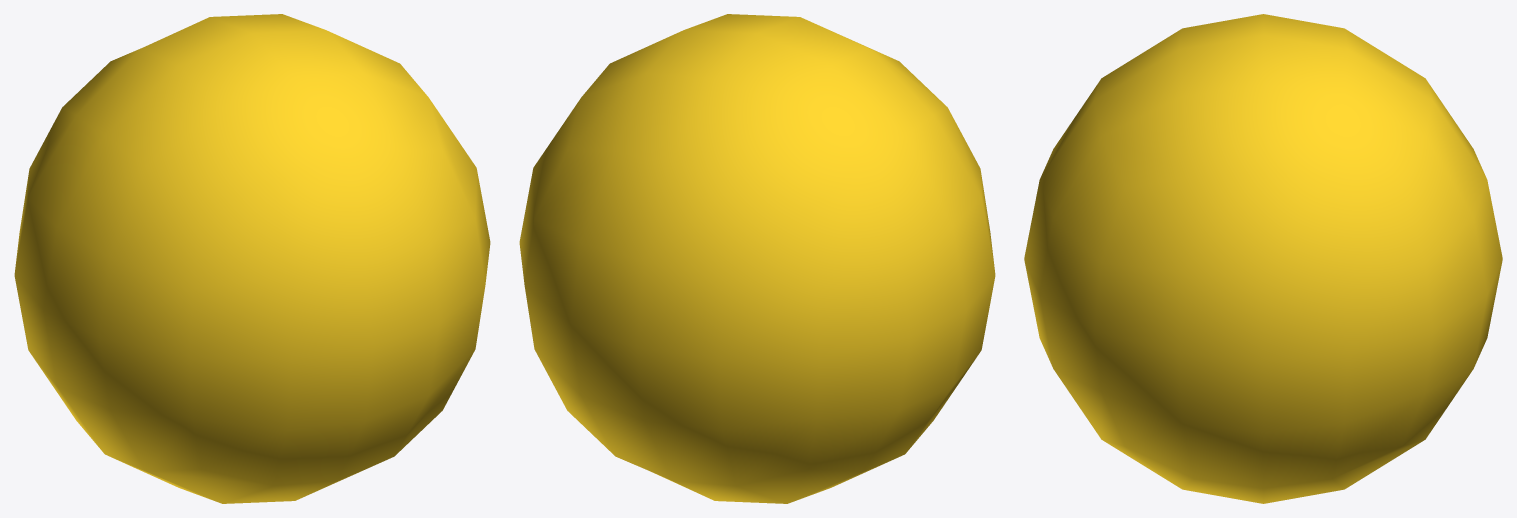
Rendered from 09pine.glb.
3 views of the same model, side by side, from view 1: azimuth 30°, elevation 25°; view 2: azimuth 150°, elevation 25°; view 3: azimuth 270°, elevation 25° (orthographic).
Parts seen in each view (by area): view 1: 09-pineapple; view 2: 09-pineapple; view 3: 09-pineapple.
Part boxes in pixels (x1,y1,x2,y2): 09-pineapple: (14, 14, 490, 503); 09-pineapple: (519, 14, 995, 503); 09-pineapple: (1024, 14, 1502, 503).
Size of the model in its own units: 11.65 by 12.01 by 11.65.
